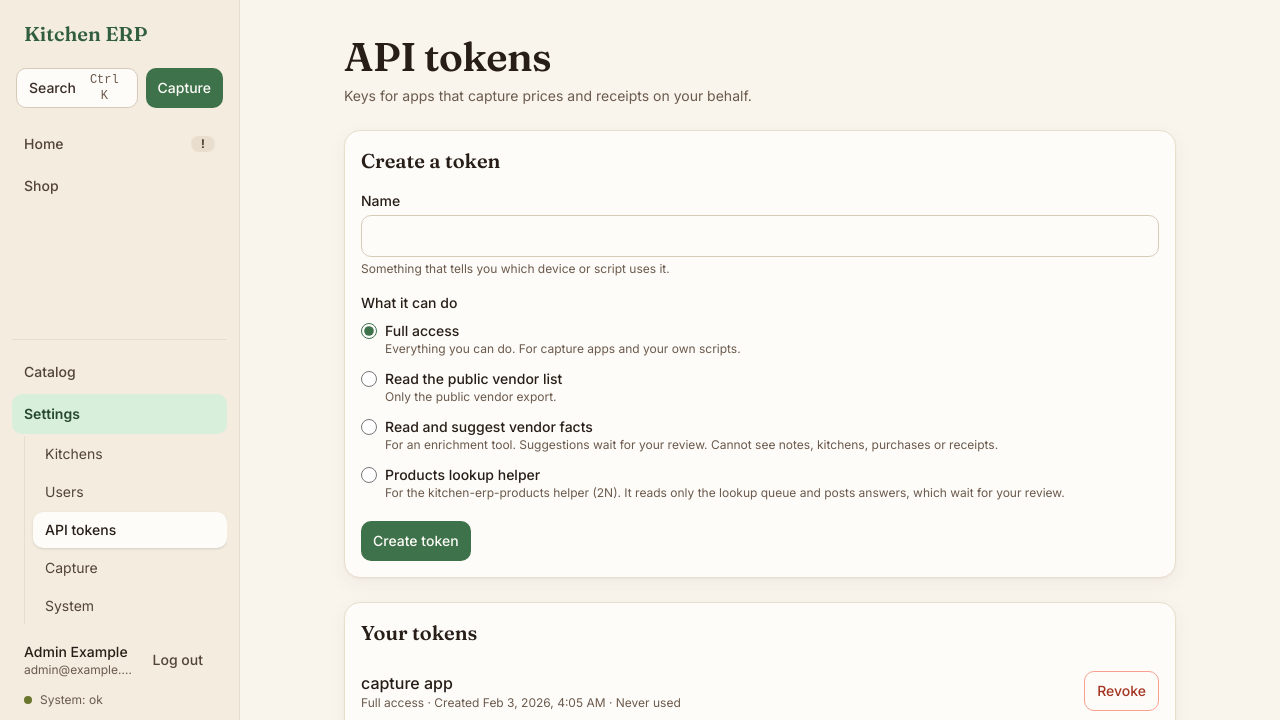
Test case: api tokens › makes a narrow token for an enrichment tool and says what each can do (D16)
Expected: the text "Full access · Created Feb 3, 2026, 4:05 AM · Never used" is shown, [361, 695, 681, 711]
Expected: the radio button labelled "Full access" is checked, [361, 323, 377, 339]
Type "enricher" into the field labelled "Name" at (760, 236), box [361, 215, 1159, 257]
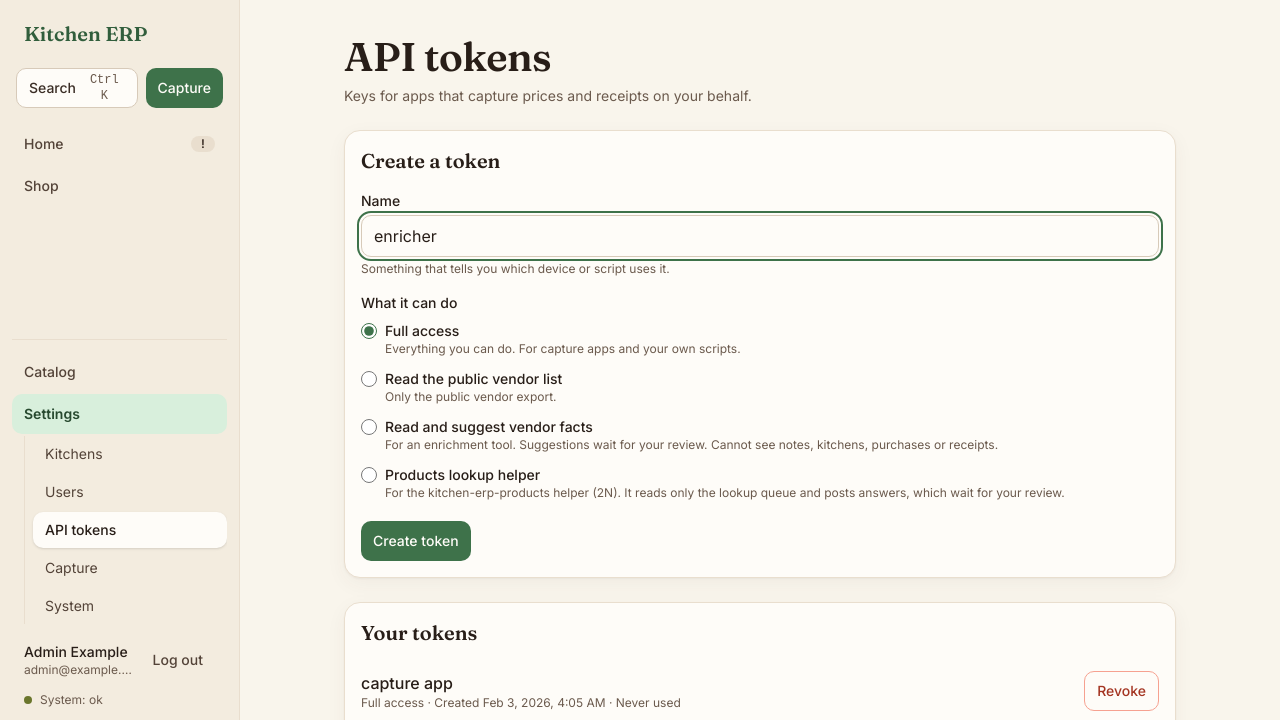
Click the 3rd radio button at (369, 427), box [361, 419, 377, 435]
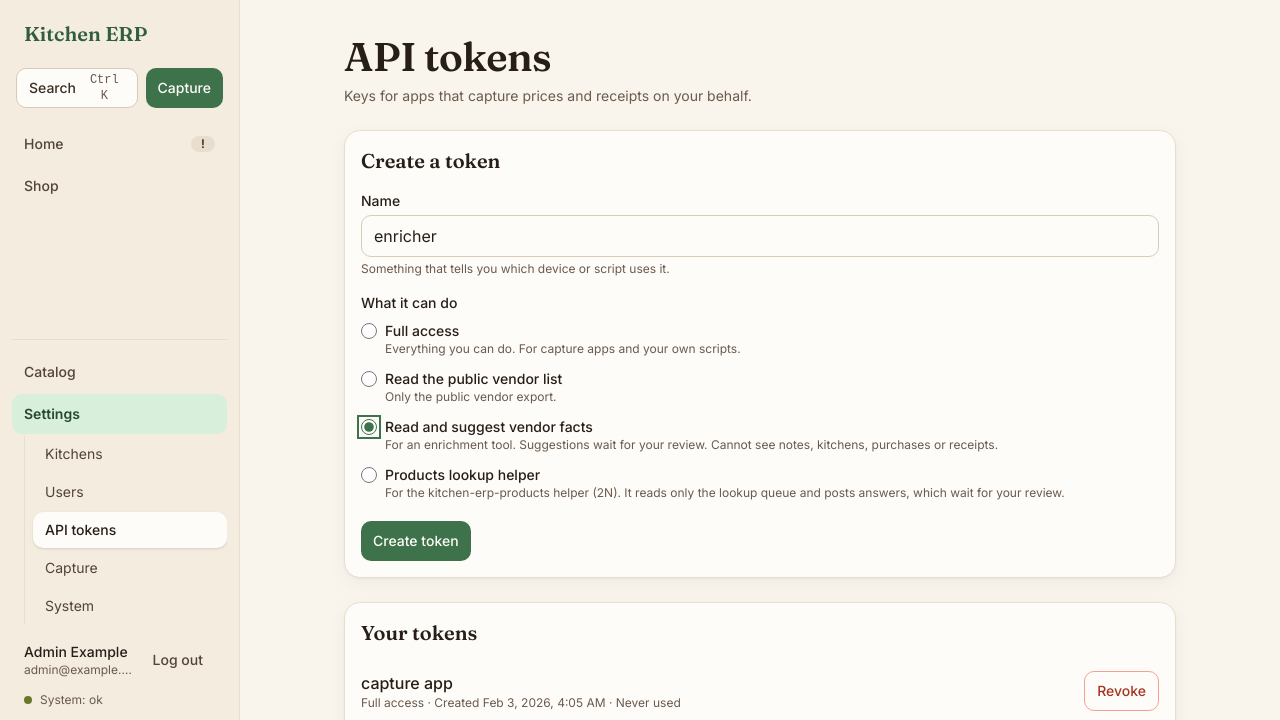
Click the button "Create token" at (416, 541), box [361, 521, 471, 561]
(page scrolled)
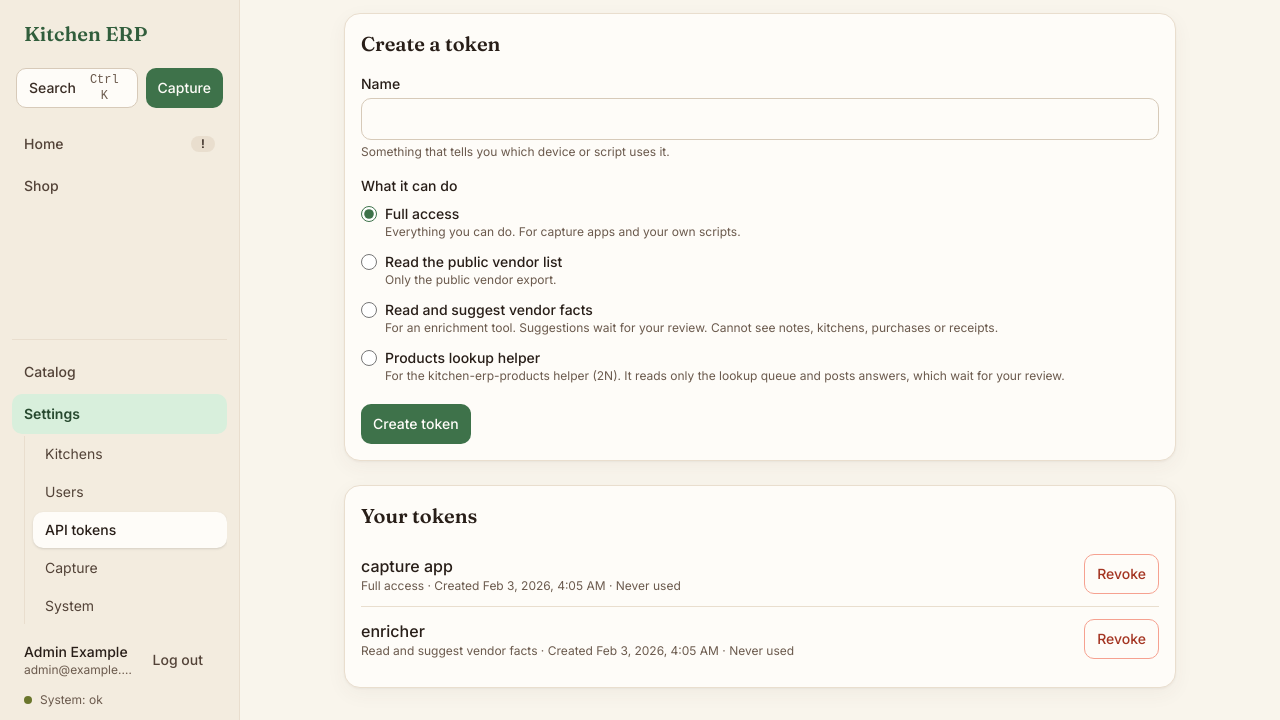
Expected: the text "Read and suggest vendor facts" is shown, [361, 643, 538, 658]
